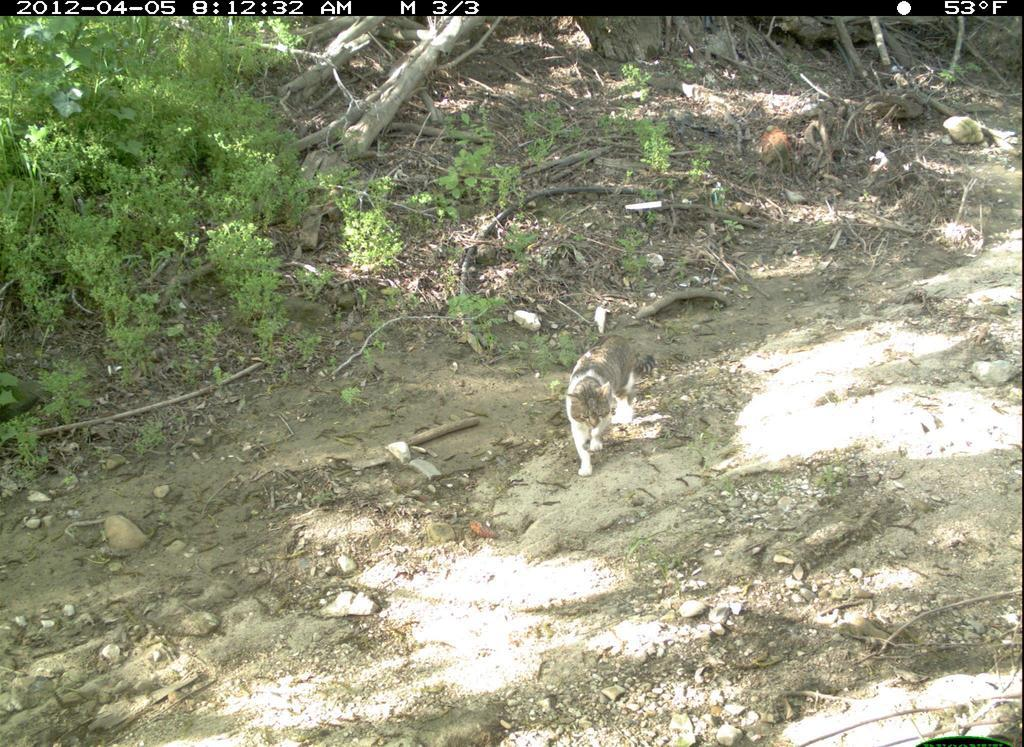cat: (556, 318, 665, 487)
